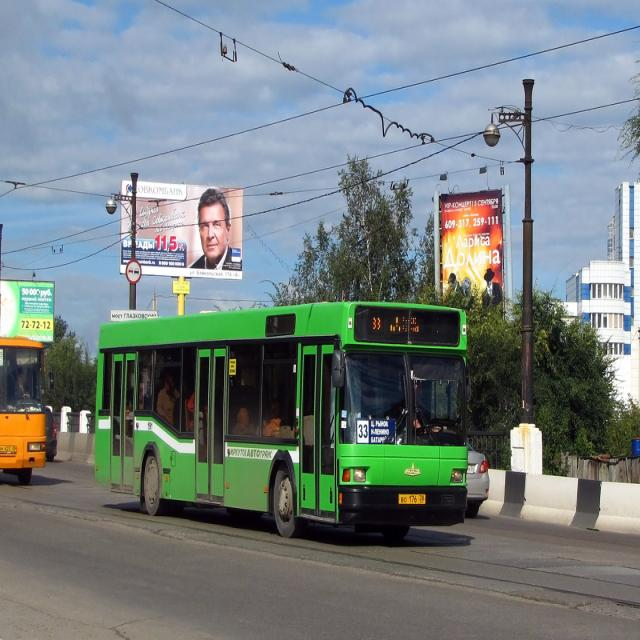number-of-bus: (358, 421, 369, 441)
